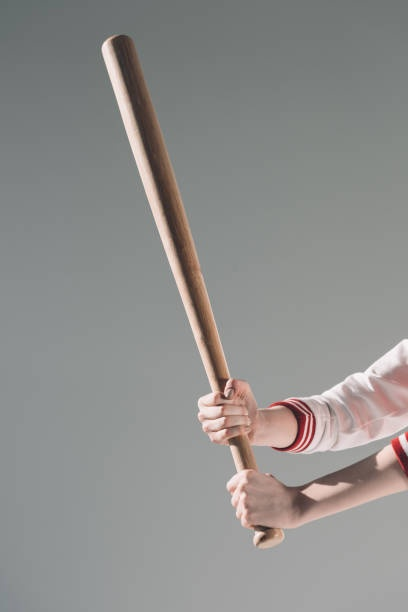bita: (100, 35, 280, 559)
